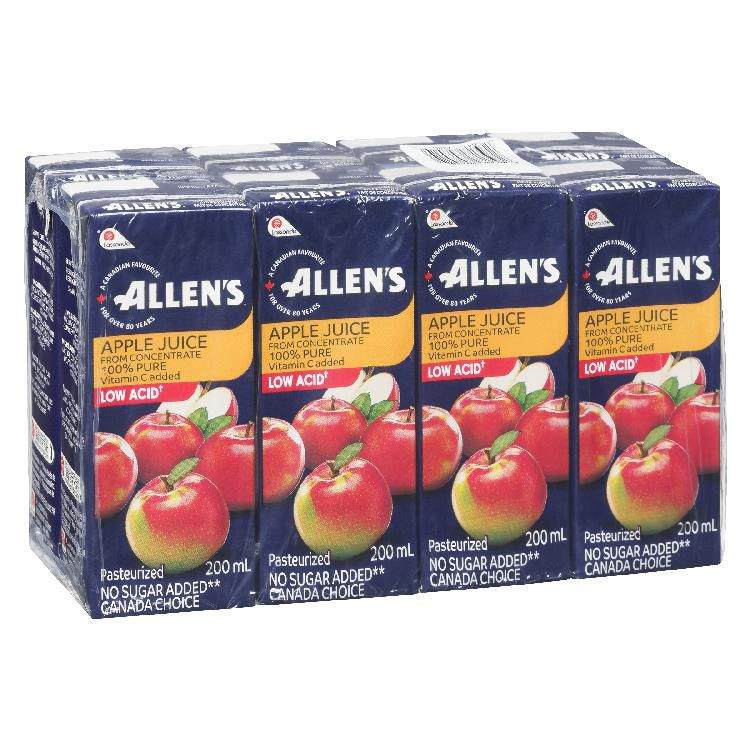Juice_Box: (232, 181, 416, 601), (70, 200, 253, 620), (394, 174, 576, 586), (543, 165, 719, 568)
